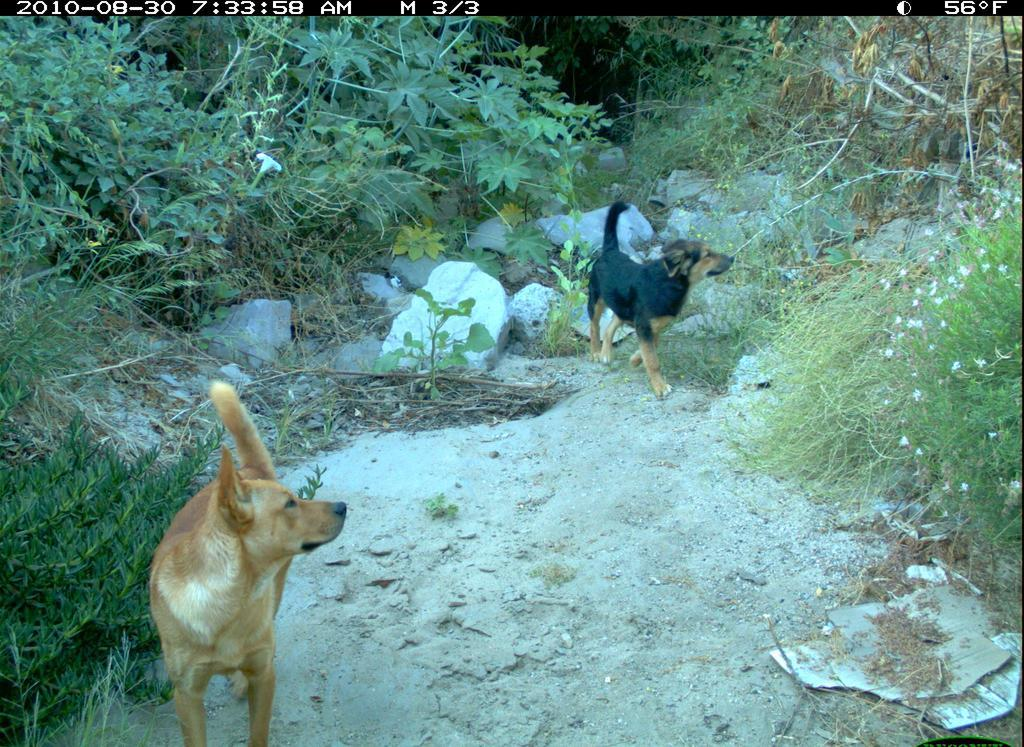dog: (135, 373, 363, 747), (578, 194, 739, 413)
